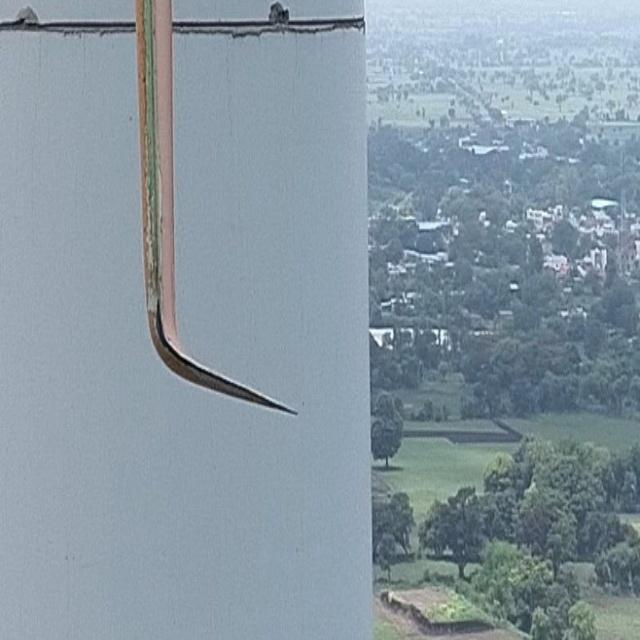EROSION: (146, 136, 176, 350)
